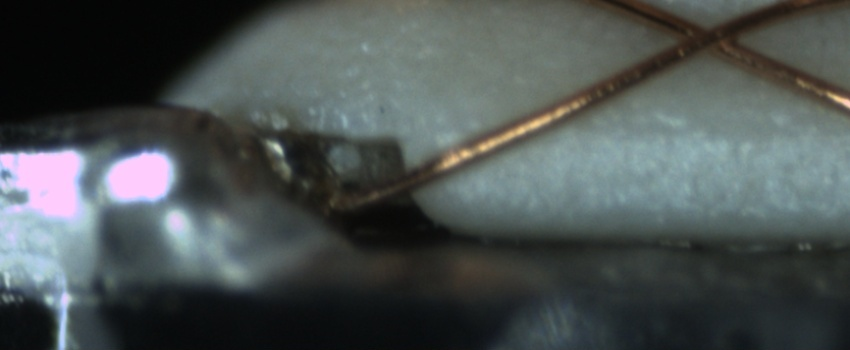CL: (661, 7, 756, 64)
DL: (574, 99, 850, 161)
